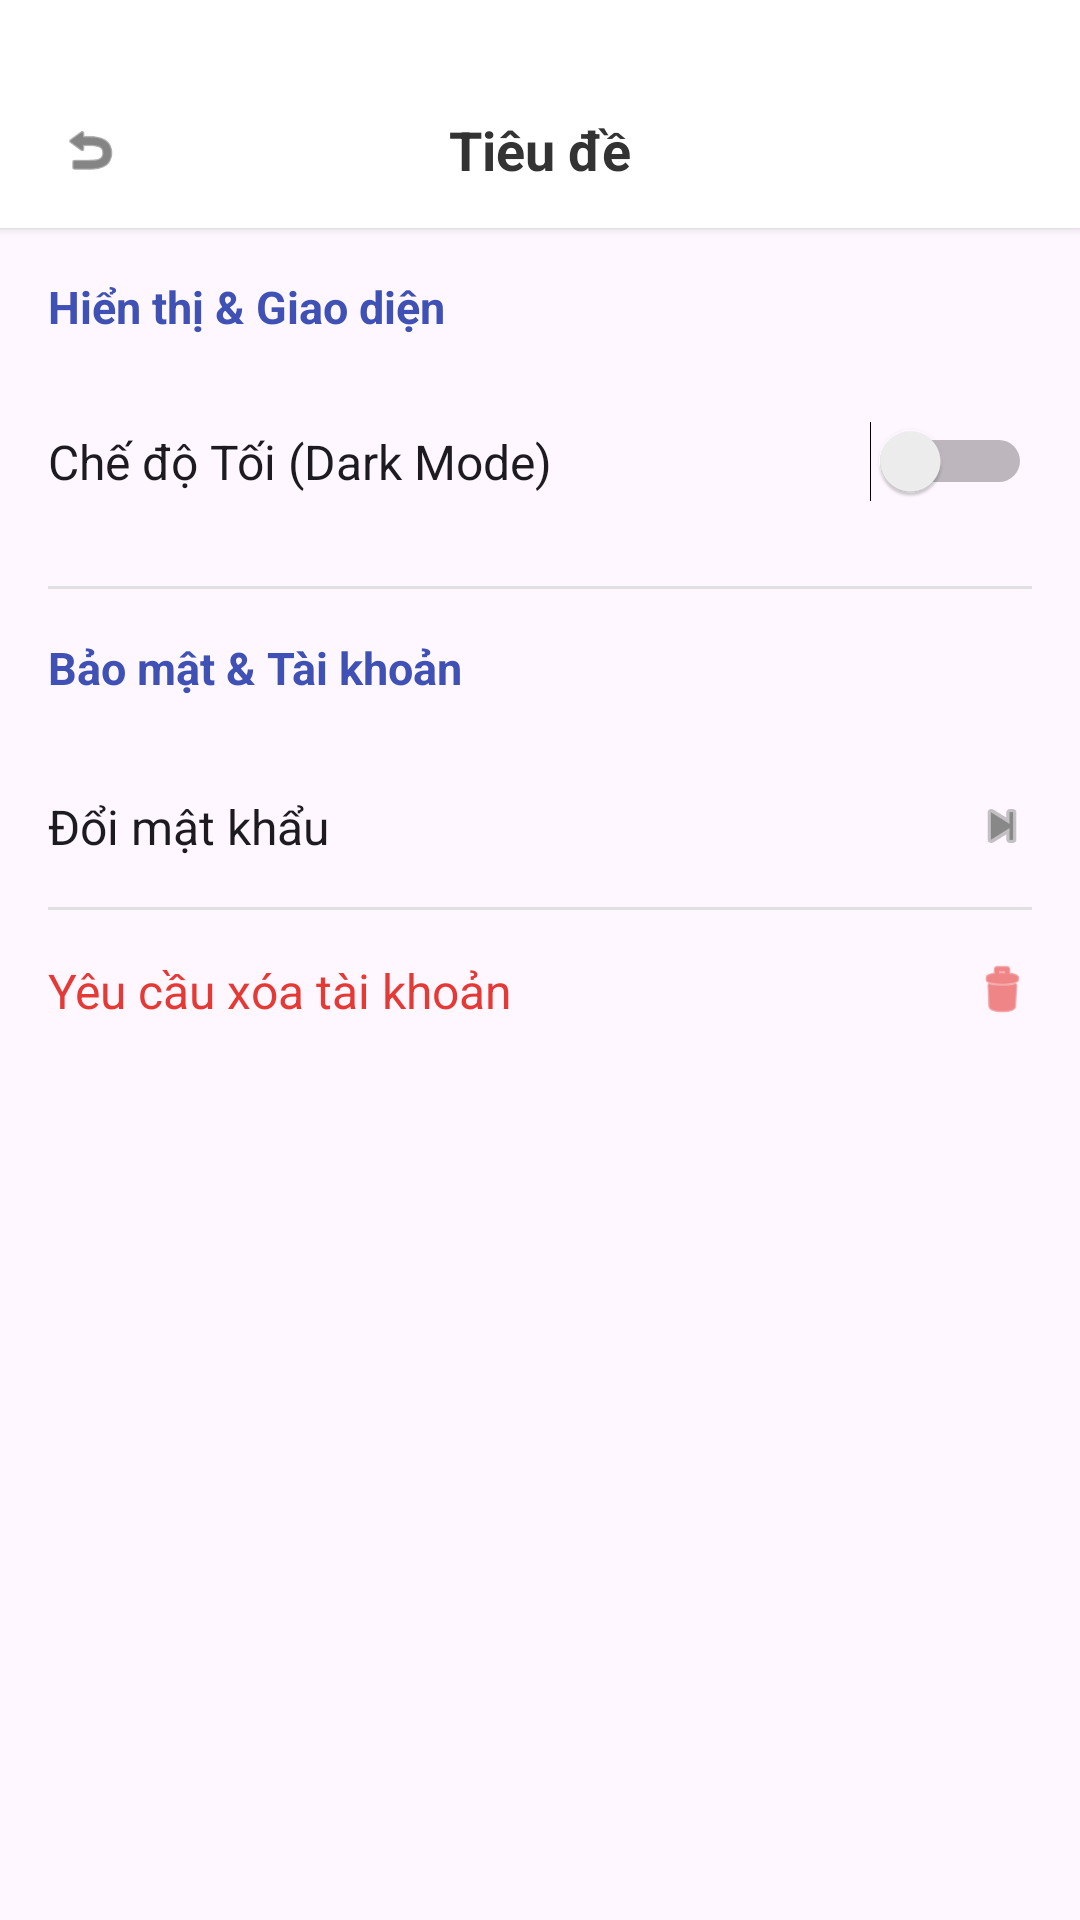

Icon bounding boxes for this 1080 × 1920 phone screenshot, format bbox(x1, y1, x2, y2):
delete: bbox(985, 966, 1019, 1013)
next: bbox(988, 809, 1016, 843)
revert: bbox(69, 131, 112, 170)
